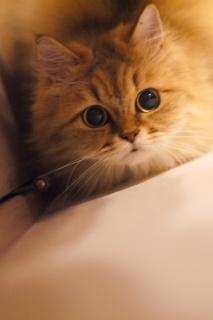Cat: (0, 0, 213, 211)
